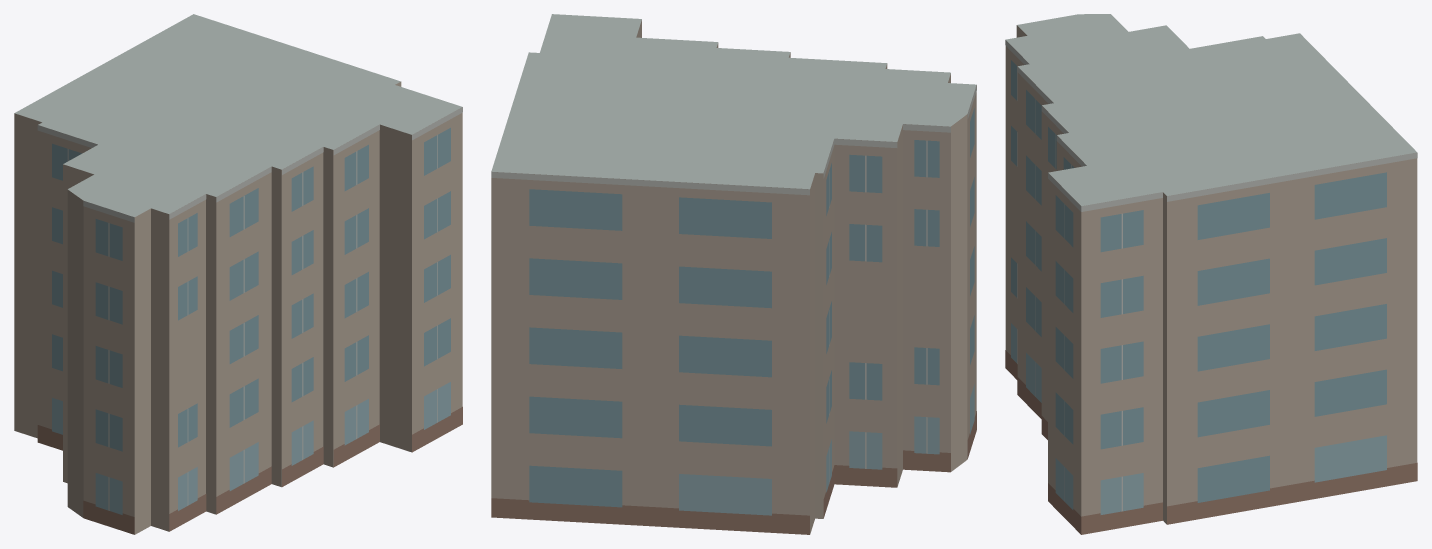
File: survey-upis-32759321.glb
3 renders of one model, left to right at view 1: azimuth 30°, elevation 25°; view 2: azimuth 150°, elevation 25°; view 3: azimuth 270°, elevation 25°, orthographic. The views are drawn at different scales.
Parts seen in each view (by area): view 1: survey-upis-32759321.tmp; view 2: survey-upis-32759321.tmp; view 3: survey-upis-32759321.tmp.
Boxes of the visible parts, x1,y1,x2,y2 form: survey-upis-32759321.tmp: [14, 14, 462, 534]; survey-upis-32759321.tmp: [491, 14, 976, 534]; survey-upis-32759321.tmp: [1005, 14, 1417, 534].
Size of the model in its own units: 17.32 by 13.8 by 15.69.
